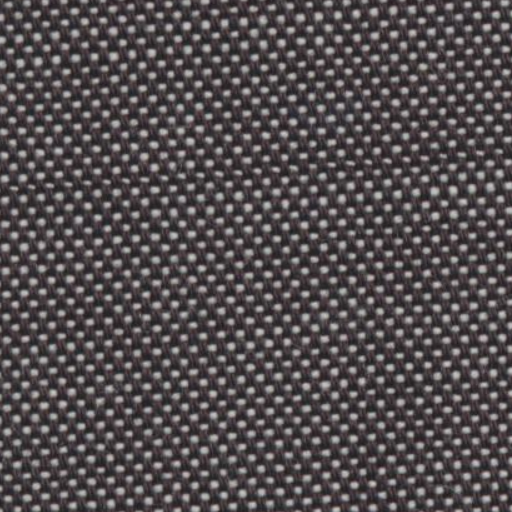TuoSha: (21, 134, 498, 222)
